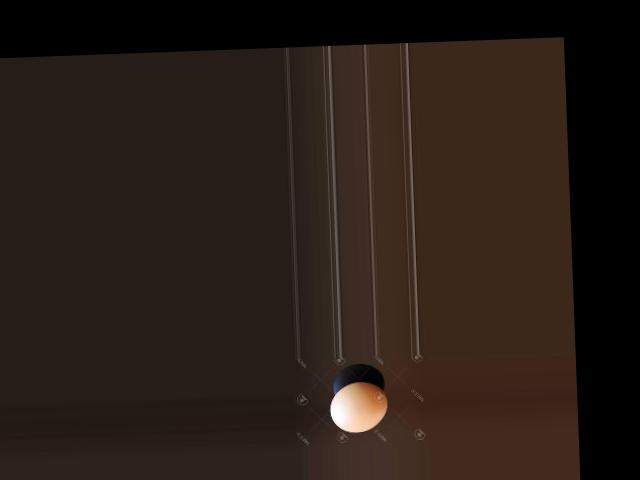egg: (329, 380, 388, 433)
